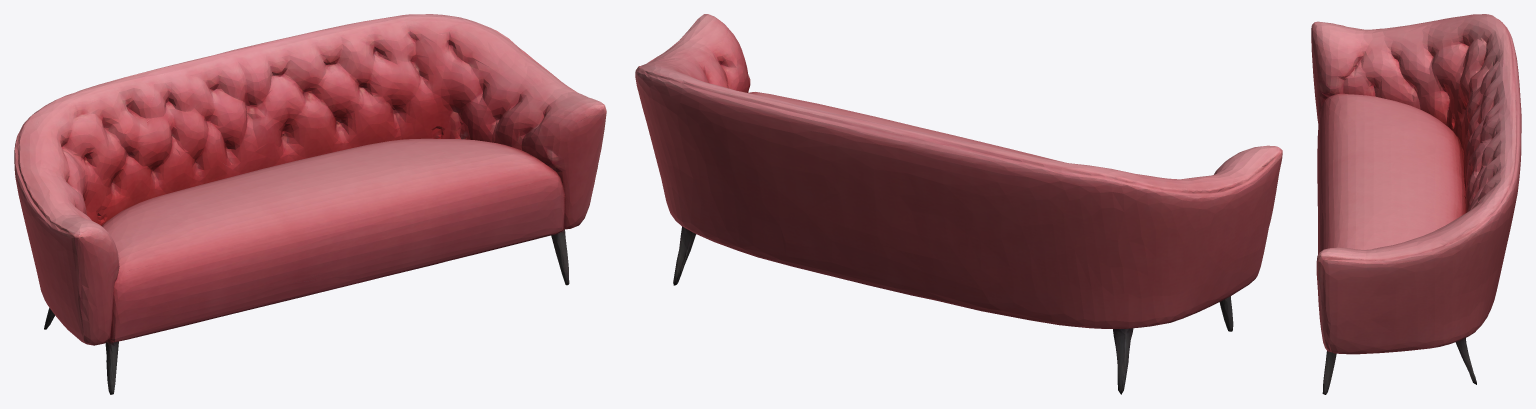
The model's file is sofa.glb.
The picture shows the model from 3 angles, left to right: view 1: azimuth 30°, elevation 25°; view 2: azimuth 150°, elevation 25°; view 3: azimuth 270°, elevation 25°; orthographic projection. The views are drawn at different scales.
Parts seen in each view (by area): view 1: world; view 2: world; view 3: world.
Boxes of the visible parts, x1,y1,x2,y2 form: world: (14,14,606,394); world: (635,14,1282,394); world: (1311,14,1521,394).
Bounding box in the file's own units: 0.9986 × 0.3825 × 0.3791.
1 material, 1 textured.
